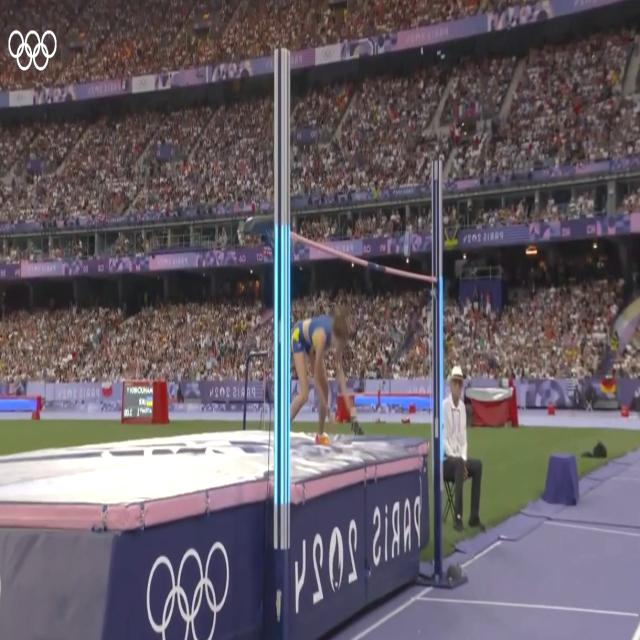land: (291, 302, 357, 449)
